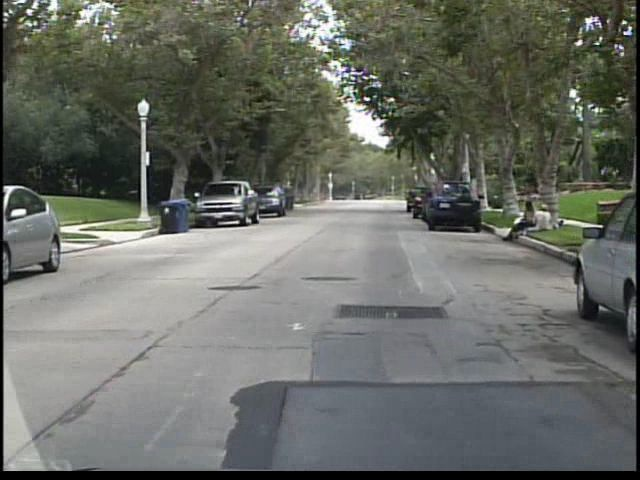person: (504, 198, 539, 242), (530, 204, 552, 230)
